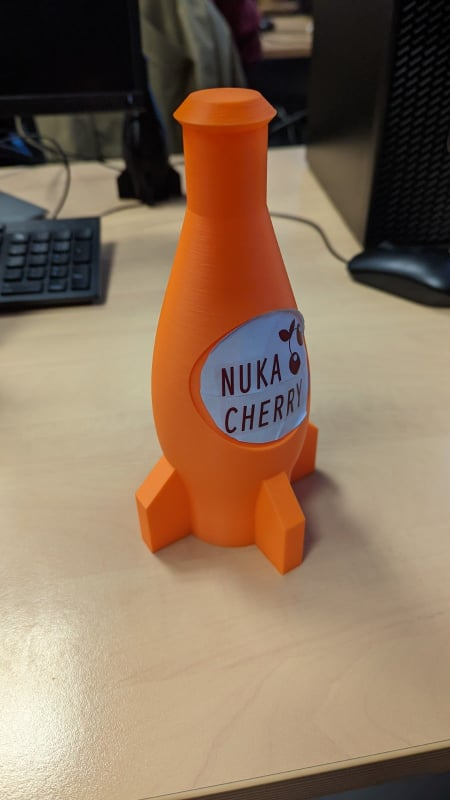bottle: (127, 71, 328, 588)
